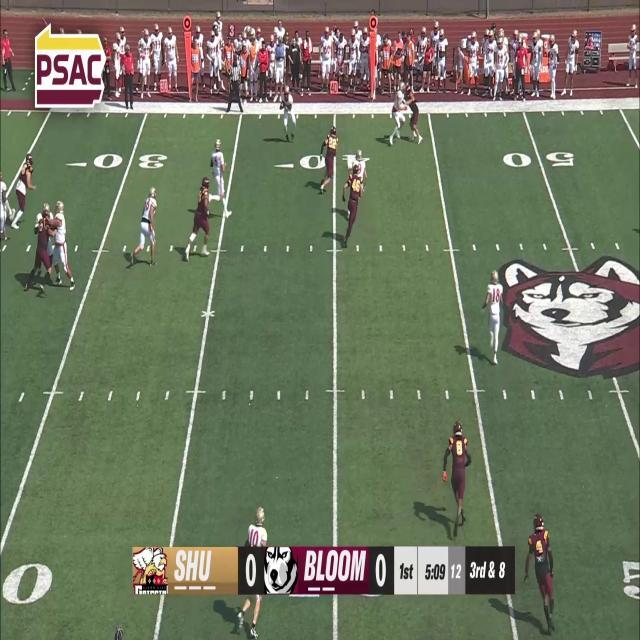football: (280, 101, 284, 110)
